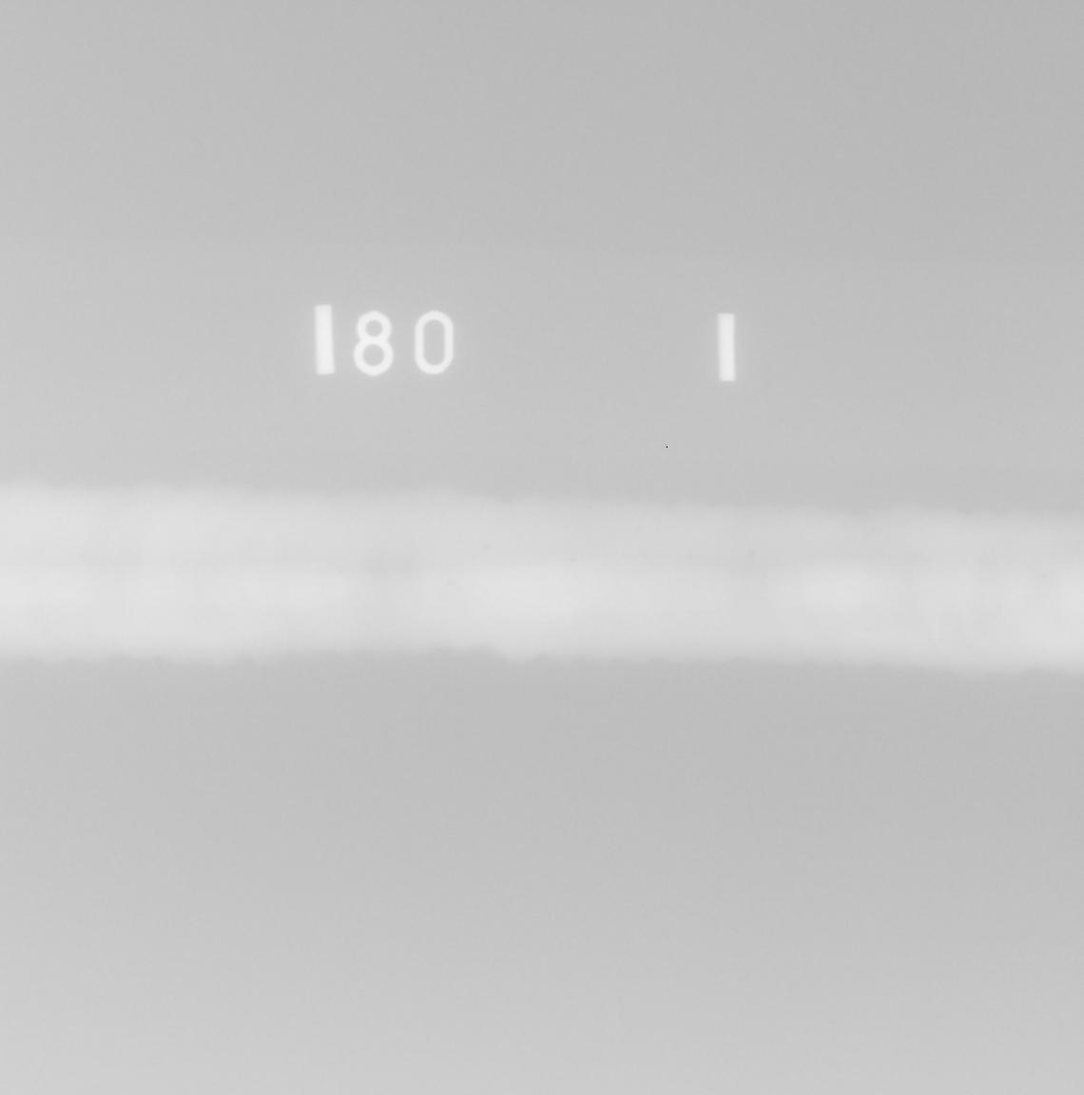Pore/Porosity: (78, 553, 85, 560), (482, 543, 490, 549), (748, 551, 755, 557), (1042, 574, 1047, 579), (330, 559, 335, 564), (447, 581, 453, 585), (472, 556, 476, 560), (571, 559, 576, 562), (796, 569, 800, 572), (367, 597, 370, 600), (866, 629, 870, 631), (337, 566, 339, 569)
